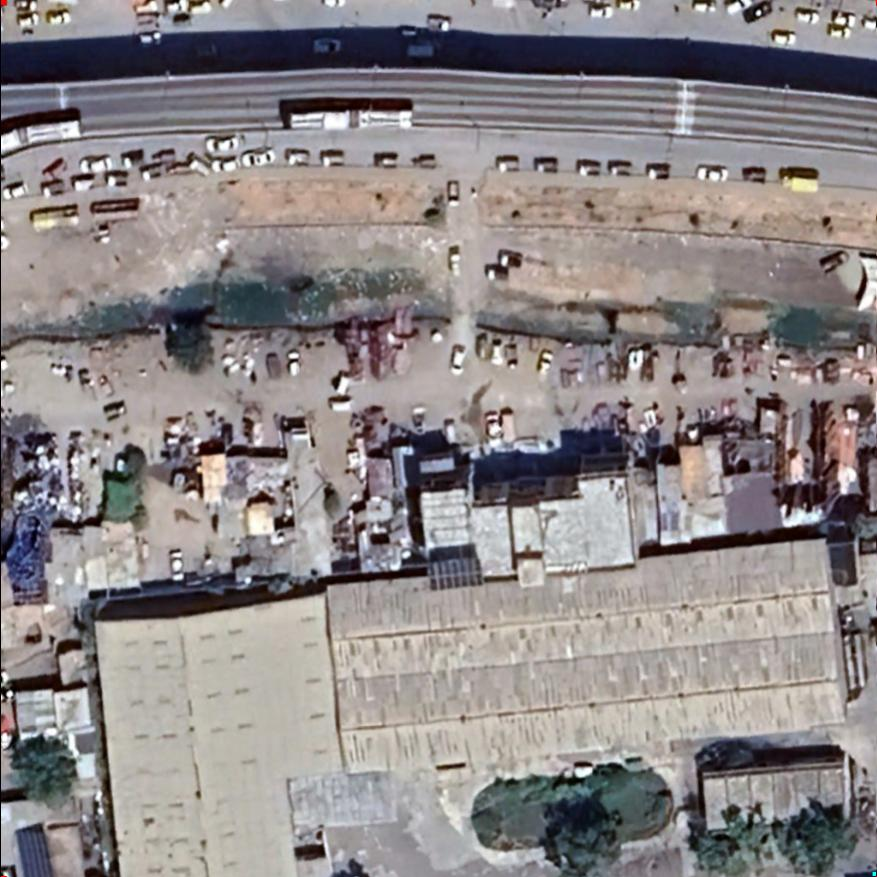Solarpanel: (422, 551, 487, 593), (10, 822, 57, 875)
